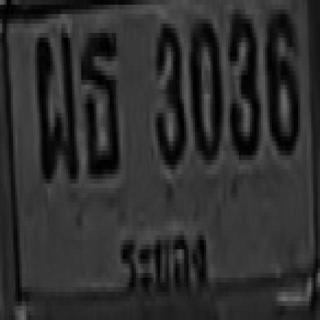A24: (79, 28, 118, 174)
A28: (33, 28, 77, 179)
N00: (188, 14, 219, 160)
N03: (153, 19, 184, 165), (228, 7, 259, 153)
N06: (263, 5, 298, 151)
P53: (113, 221, 216, 306)
